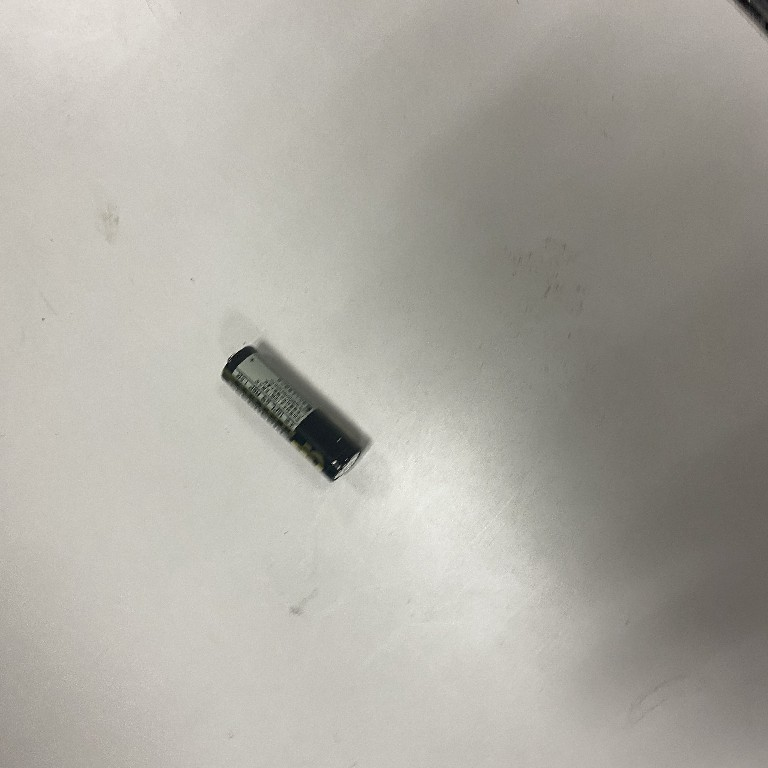charge: (218, 342, 365, 484)
